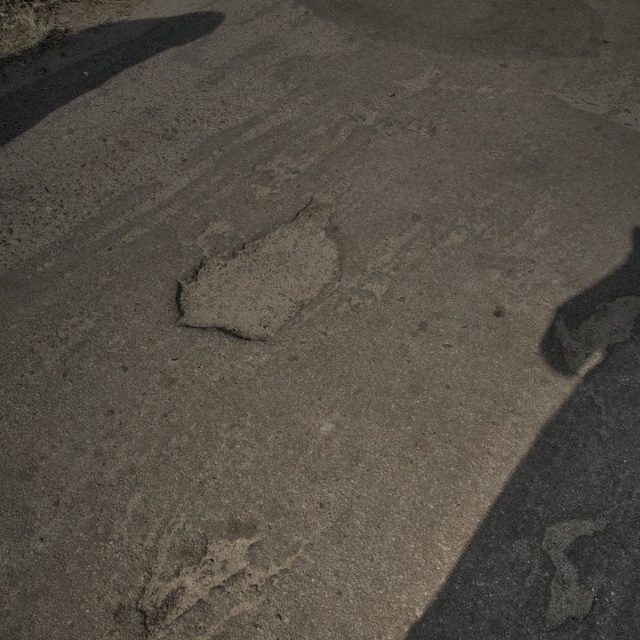pothole: (166, 187, 350, 345), (127, 530, 268, 639)
